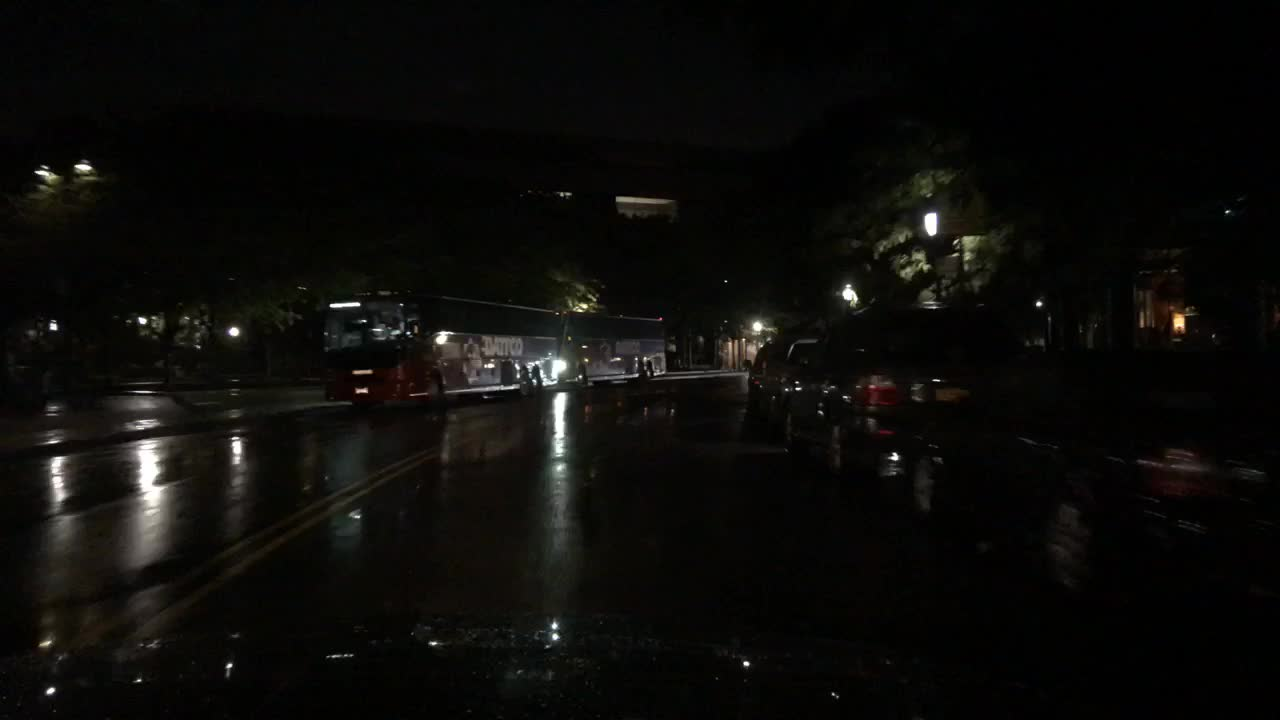bus: (318, 289, 563, 413), (560, 309, 668, 386)
car: (906, 341, 1277, 608), (785, 304, 1005, 476), (772, 337, 824, 410), (740, 342, 790, 412)
traffic sign: (933, 173, 993, 237), (934, 254, 961, 278)
